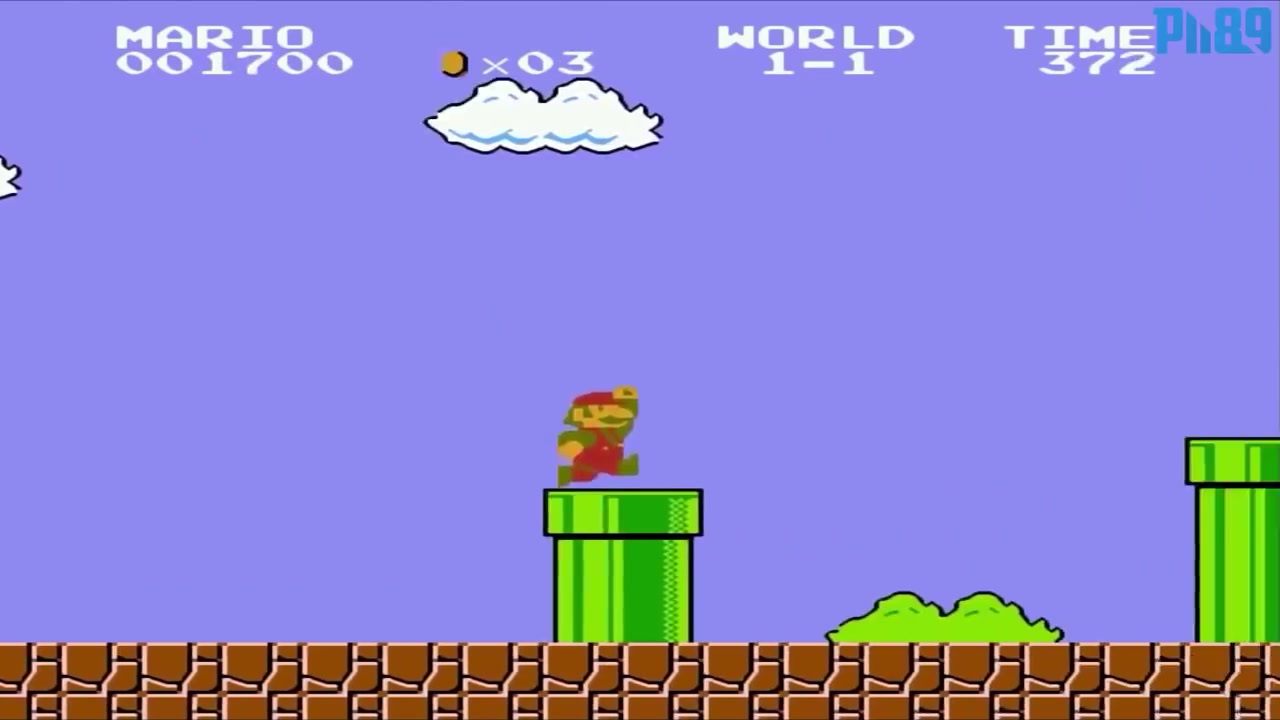mario: (540, 376, 654, 486)
